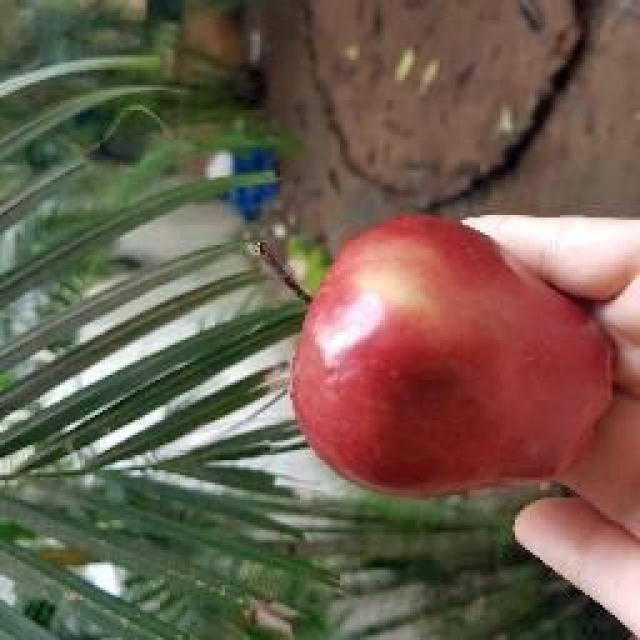Good_Apple: (290, 215, 618, 500)
